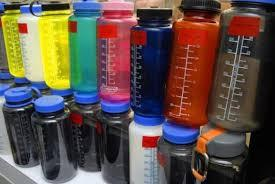Container for household chemicals: (2, 1, 275, 184)
